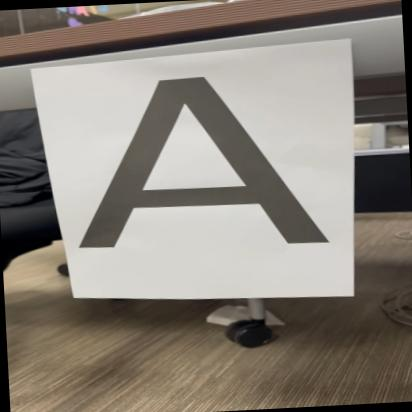seat: (58, 58, 340, 282)
